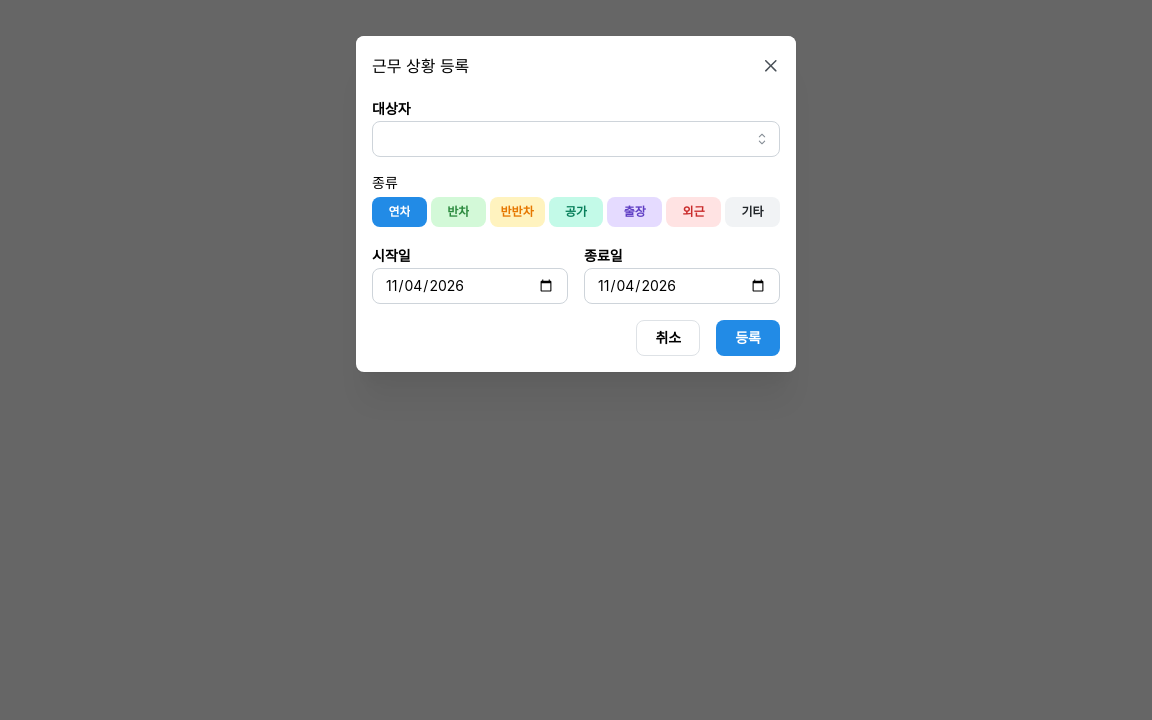
Test: WorkStatusForm › 반반차는 시간 대신 오전과 오후를 선택한다
The image size is (1152, 720).
What coordinates should you click on to do the following:
click the button "반반차"
I would click on:
 (517, 212)
Its box is [490,197,544,227].
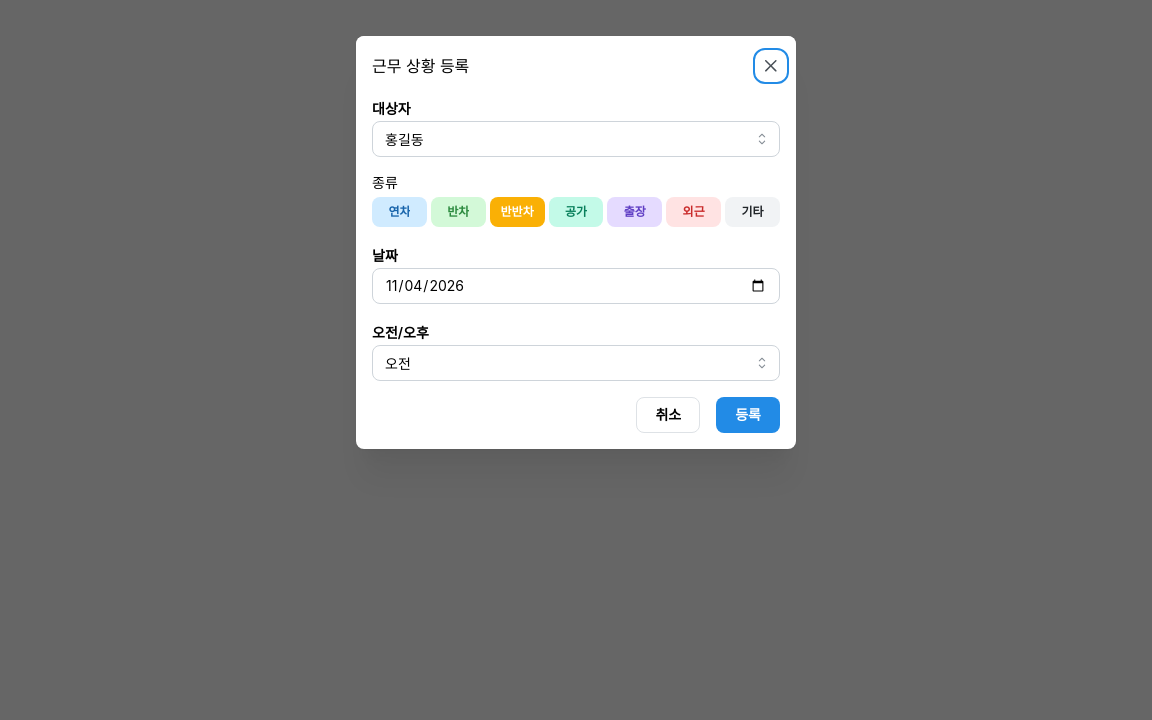
Result: the text "오전/오후" is shown at [372,322,429,344]
